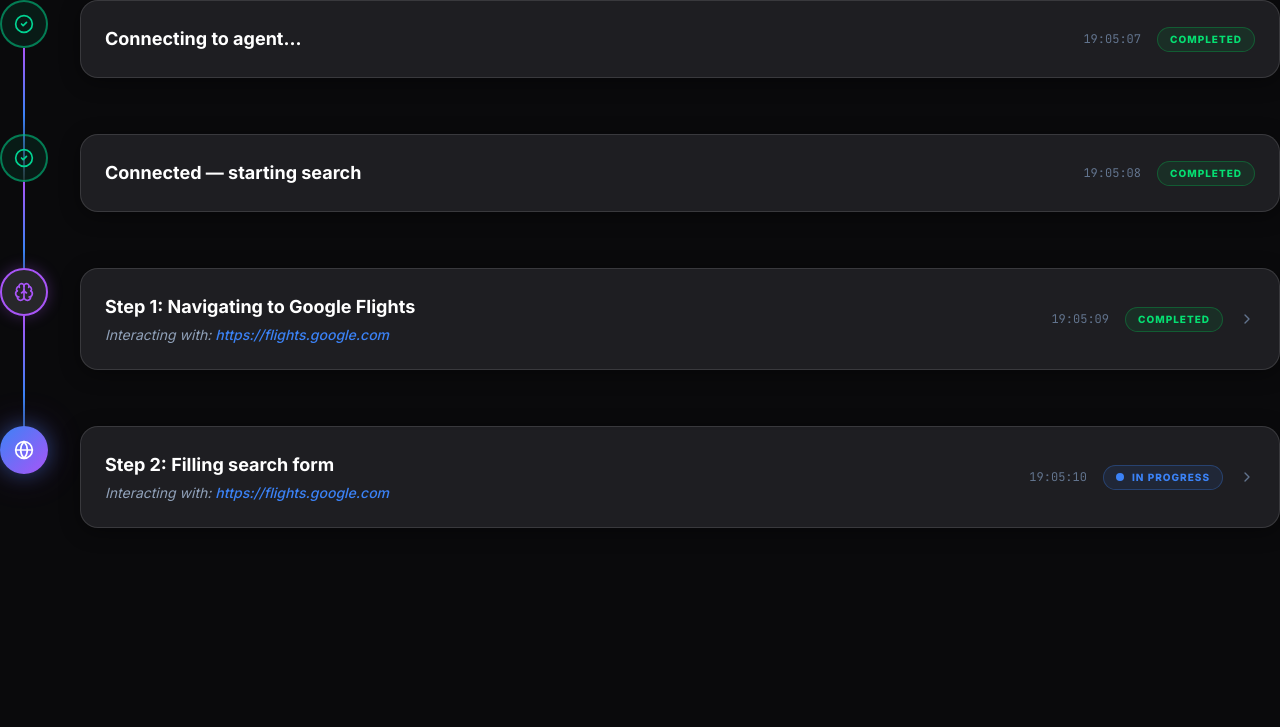
Test case: ExecutionTimeline › expands progress event details on click
Note: Find the button for the progress event that has thinking data
Click the heading "Step 1: Navigating to Google Flights" at (260, 307), box [105,293,415,321]
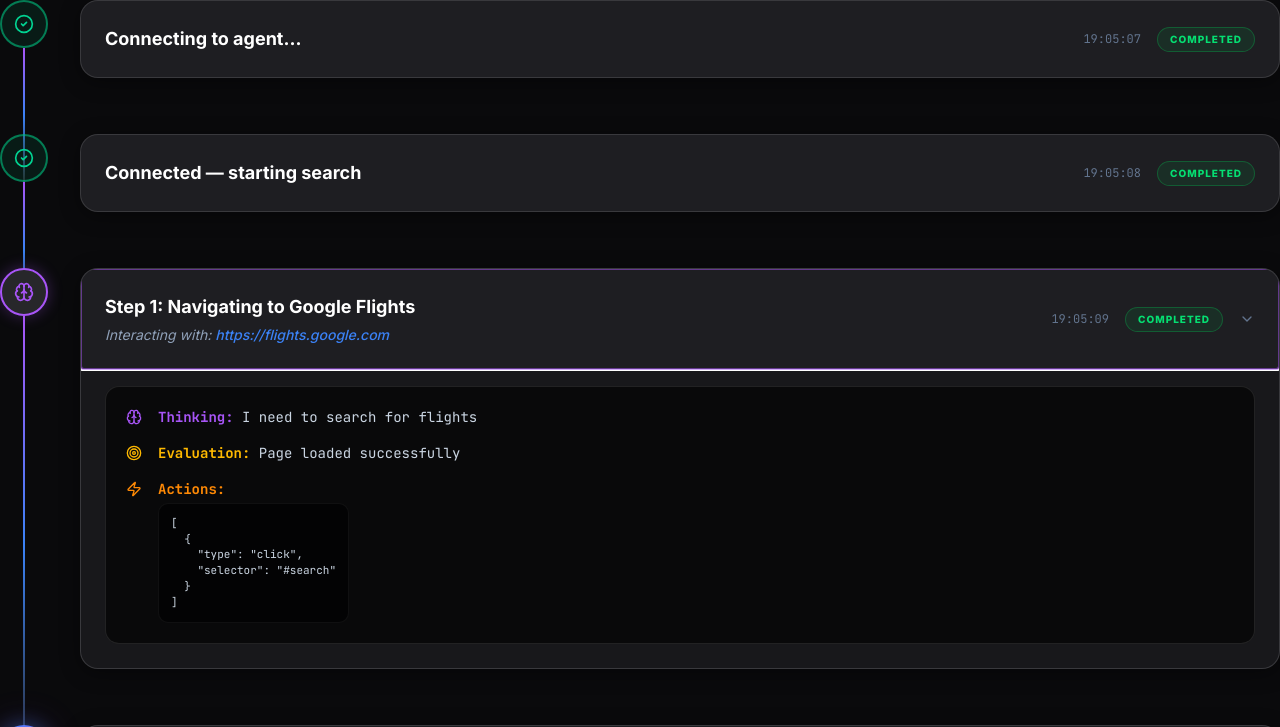
Check: the text "I need to search for flights" is shown, box [242,408,477,426]
Check: the text "Page loaded successfully" is shown, box [259,444,460,462]
